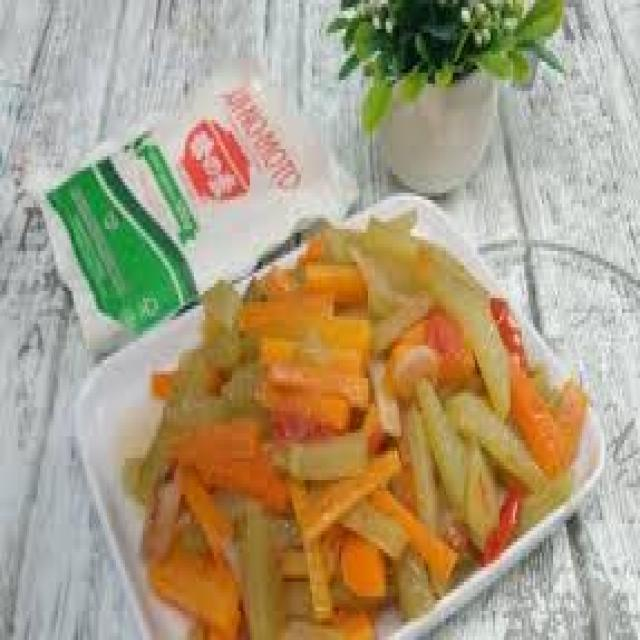wortel: (146, 229, 557, 626)
